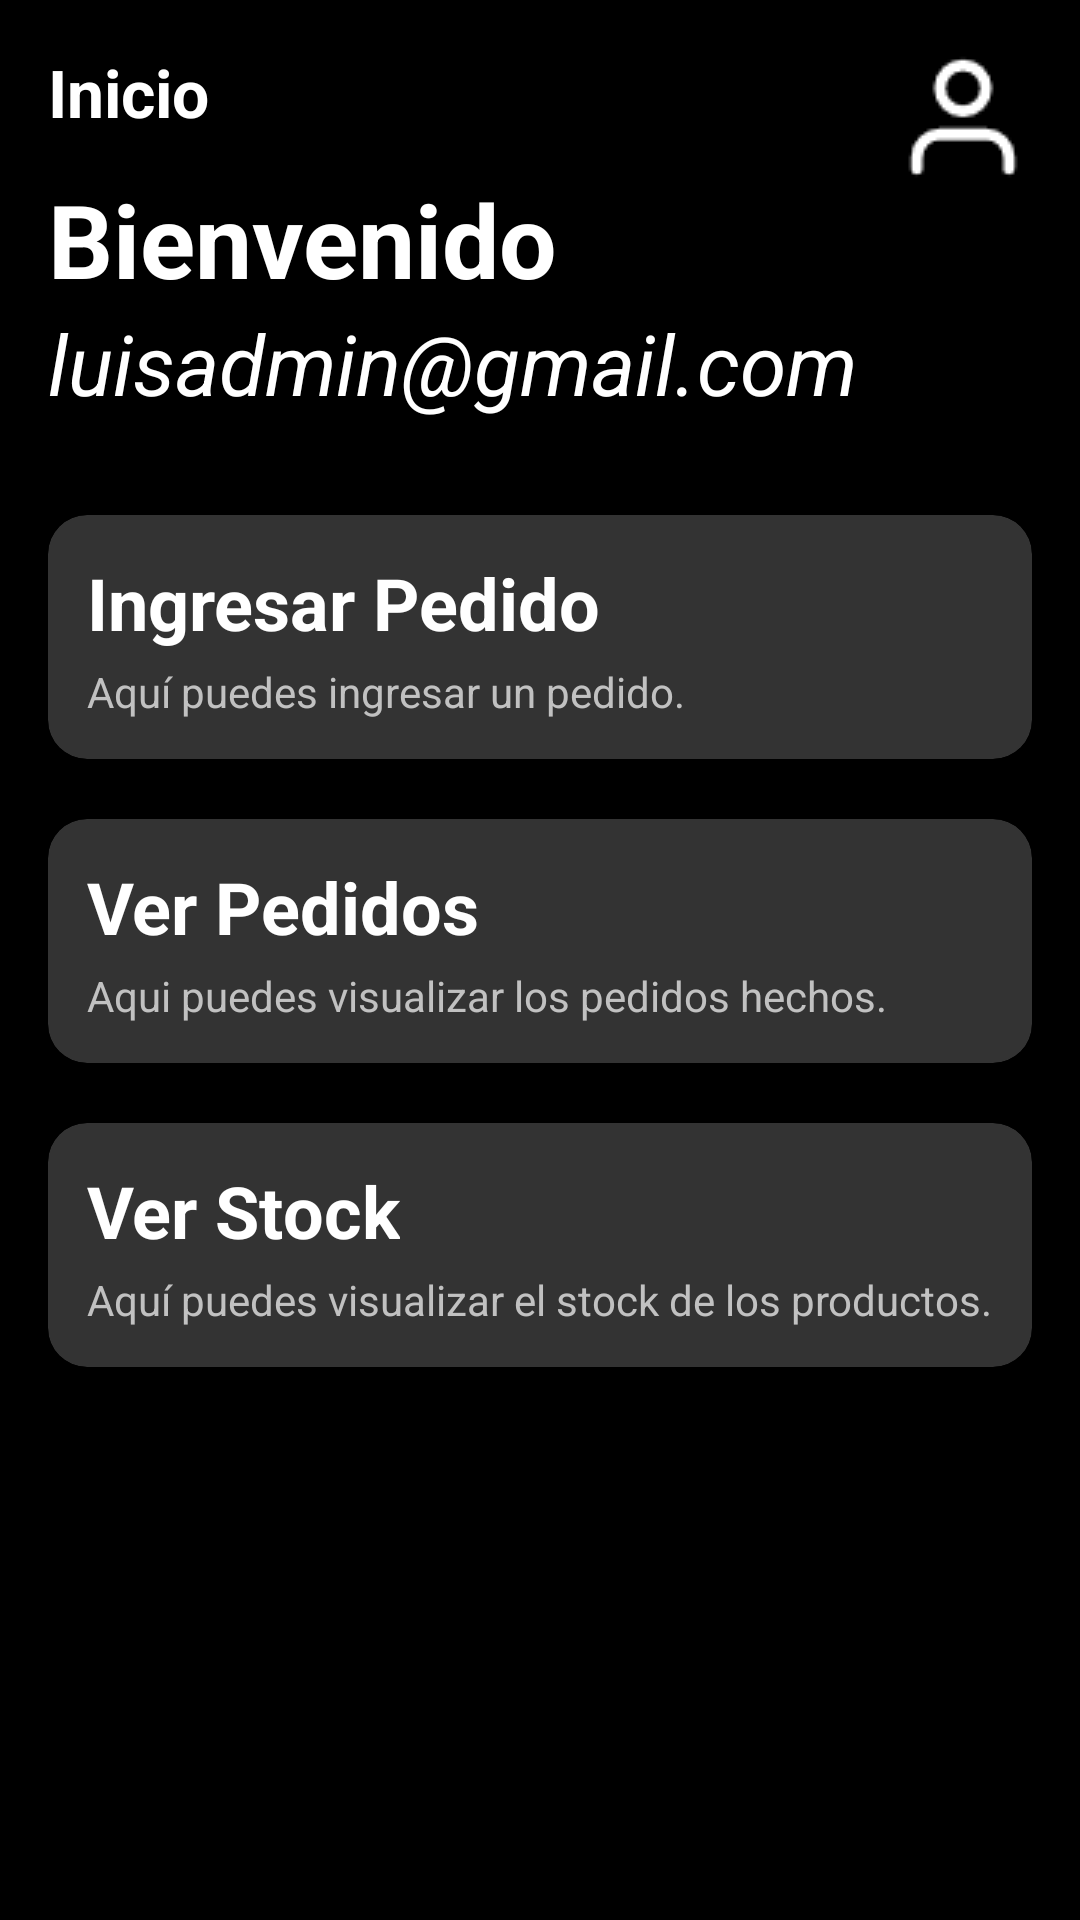

Icons on this 1080px x 1920px Android screen, each with its box as (x1, y1, x2, y2):
user: (909, 59, 1017, 175)
